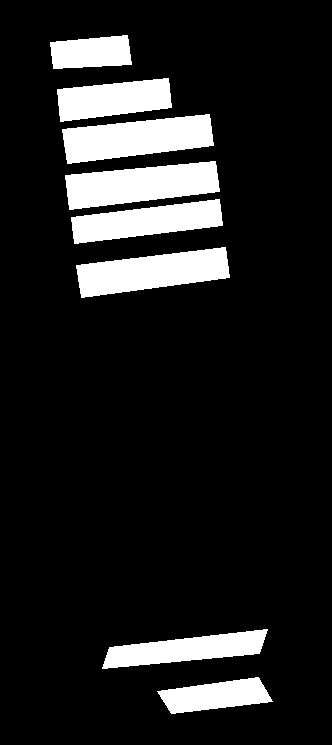parkingspot: (76, 247, 229, 297), (62, 114, 213, 163), (65, 161, 219, 209), (71, 199, 222, 243), (102, 629, 267, 668), (57, 78, 171, 121), (157, 677, 272, 713), (50, 35, 131, 68)
